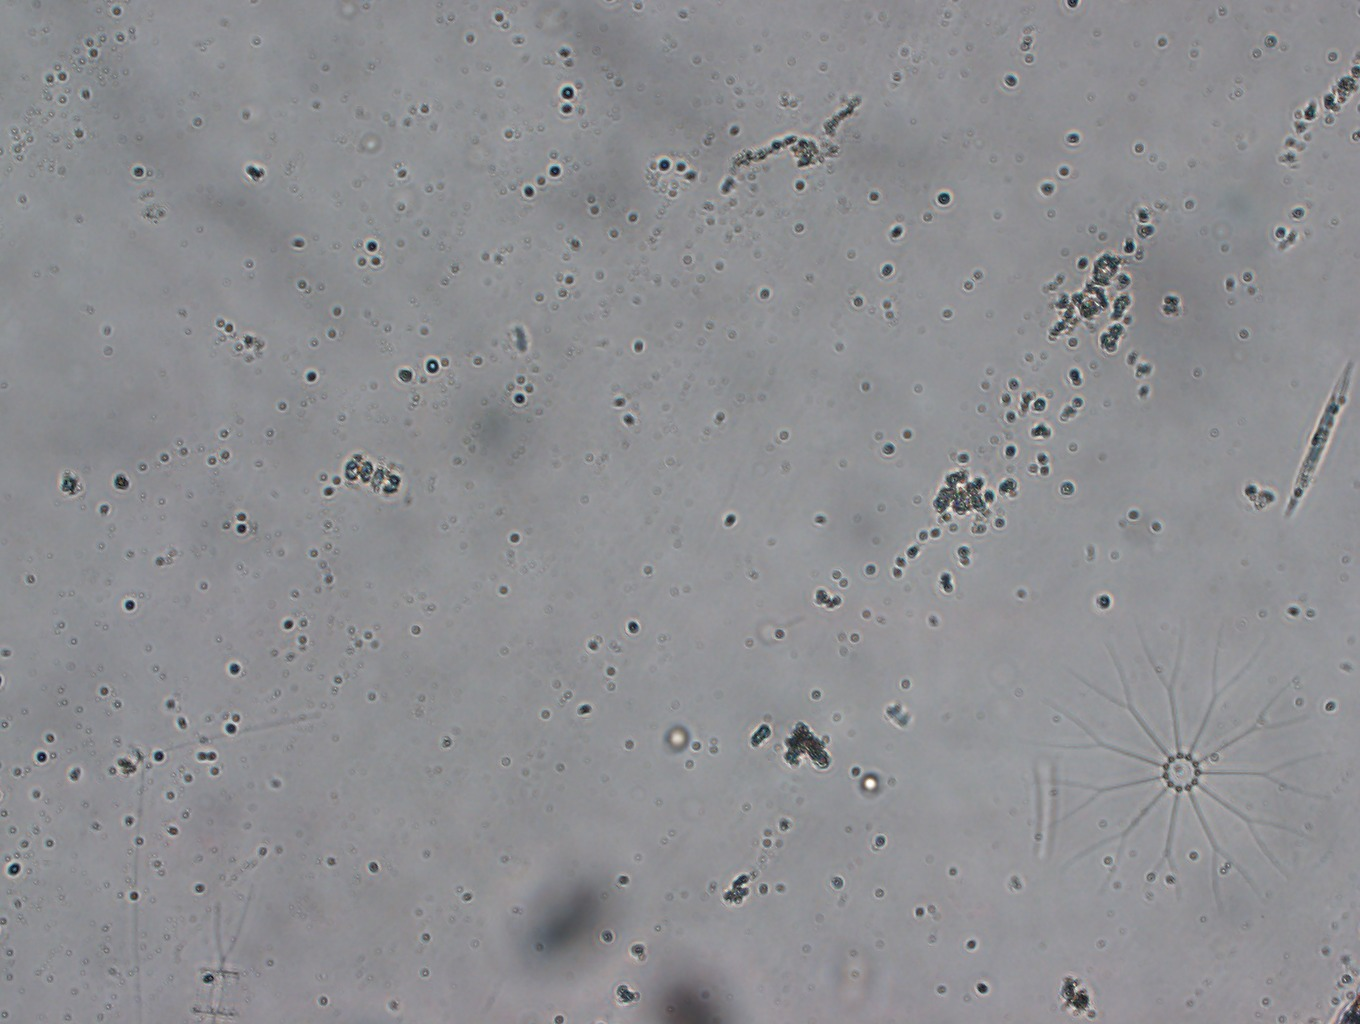bacteriastrum: (1039, 607, 1338, 918)
